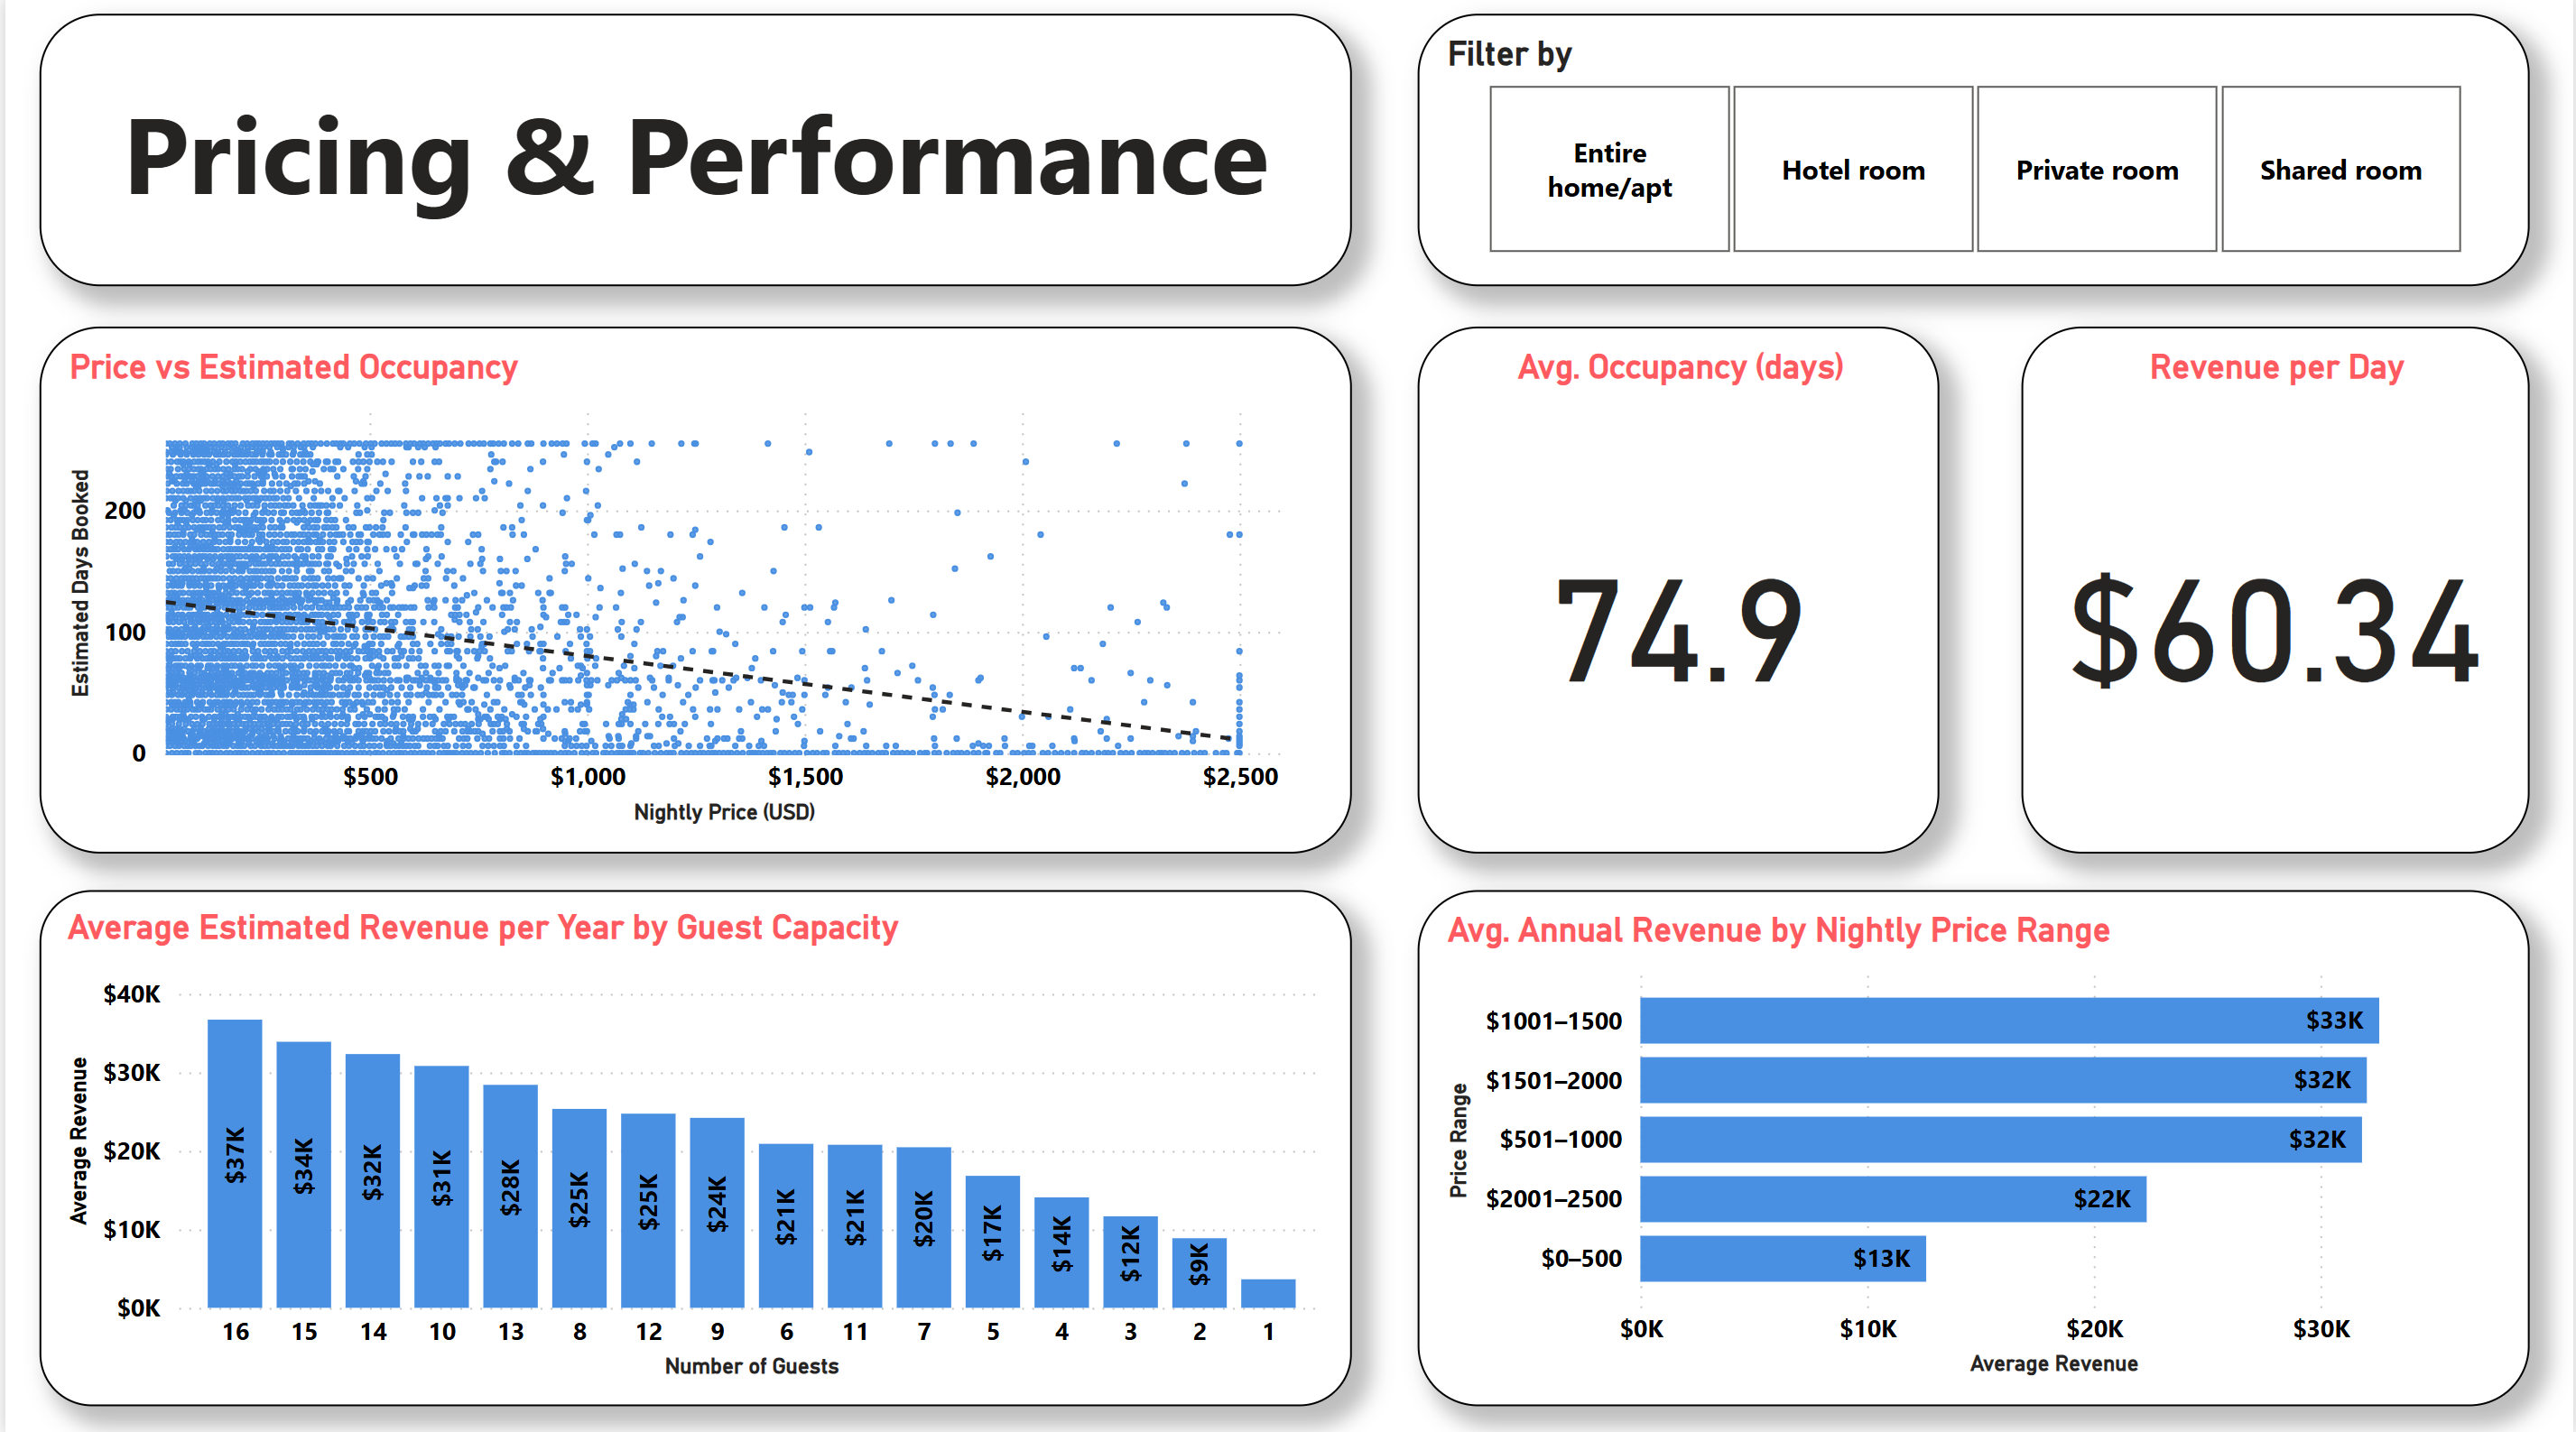

What the dashboard file says about the page in this screenshot:
{"tool":"powerbi","page":{"name":"Pricing & Performance","canvas":[1280,720],"ordinal":1},"visuals":[{"type":"slicer","title":"Filter by","fields":{"Values":["airbnb_la_cleaned.room_type"]},"box":[704,10,554,136],"z":0},{"type":"textbox","box":[17,10,654,136],"z":1000},{"type":"card","title":"Avg. Occupancy (days)","fields":{"Values":["Avg(airbnb_la_cleaned.estimated_occupancy_l365d)"]},"box":[704,166,260,263],"z":2000},{"type":"card","title":"Revenue per Day","fields":{"Values":["airbnb_la_cleaned.RevenuePerAvailableDay"]},"box":[1005,166,253,263],"z":3000},{"type":"scatterChart","title":"Price vs Estimated Occupancy","fields":{"X":["Sum(airbnb_la_cleaned.price_capped)"],"Y":["Sum(airbnb_la_cleaned.estimated_occupancy_l365d)"]},"box":[17,166,654,263],"z":4000},{"type":"clusteredBarChart","title":"Avg. Annual Revenue by Nightly Price Range","fields":{"Y":["Avg(airbnb_la_cleaned.revenue_proxy)"],"Category":["airbnb_la_cleaned.price_bin_group"]},"box":[704,447,554,258],"z":5000},{"type":"columnChart","title":"Average Estimated Revenue per Year by Guest Capacity","fields":{"Category":["airbnb_la_cleaned.accommodates"],"Y":["Avg(airbnb_la_cleaned.revenue_proxy)"]},"box":[17,447,654,258],"z":6000}]}

Visuals, with their boxes in screenshot pixels (x1, y1, x2, y2), scaled from the page's 1280x720 canvas onto the 2576x1432 screenshot:
"Filter by" slicer: [x1=1417, y1=20, x2=2532, y2=291]
textbox: [x1=34, y1=20, x2=1350, y2=291]
"Avg. Occupancy (days)" card: [x1=1417, y1=330, x2=1940, y2=854]
"Revenue per Day" card: [x1=2023, y1=330, x2=2532, y2=854]
"Price vs Estimated Occupancy" scatterChart: [x1=34, y1=330, x2=1350, y2=854]
"Avg. Annual Revenue by Nightly Price Range" clusteredBarChart: [x1=1417, y1=889, x2=2532, y2=1402]
"Average Estimated Revenue per Year by Guest Capacity" columnChart: [x1=34, y1=889, x2=1350, y2=1402]
